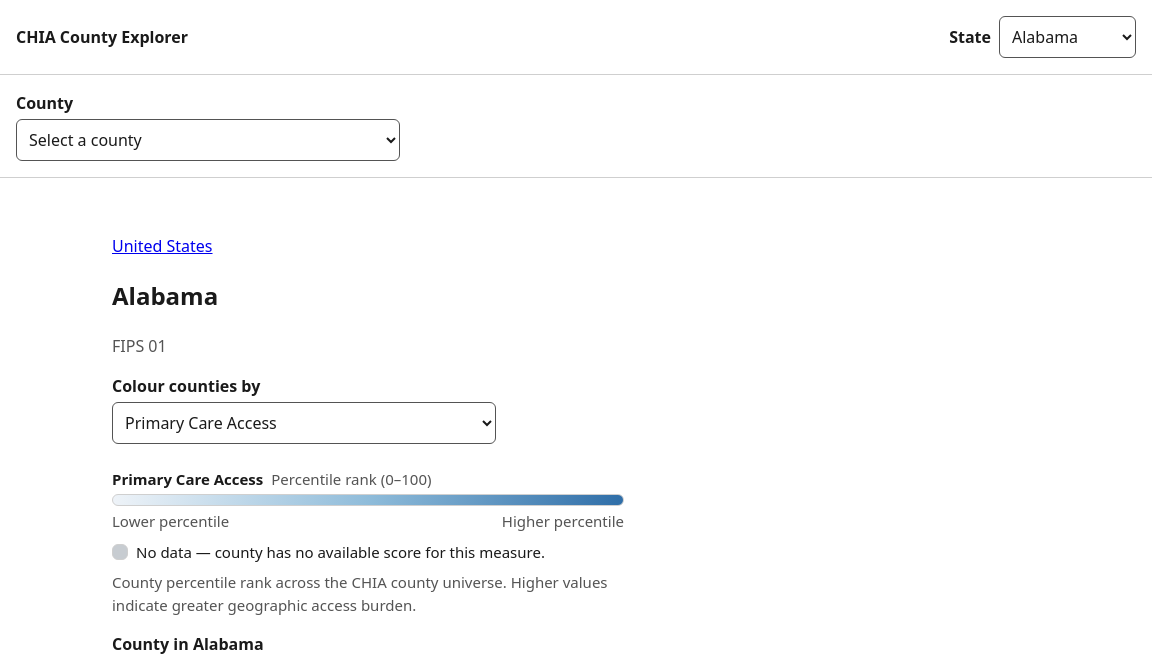
StatePage (CE-E10 analytical heat map) › the legend makes the percentile-vs-coverage distinction explicit in text
Expected: the text "Percentile rank (0–100)" is shown, 271,468 -> 432,490
Select "MUA/P Access" in the dropdown labelled "Colour counties by" at [304, 423], box 112,402 -> 496,444
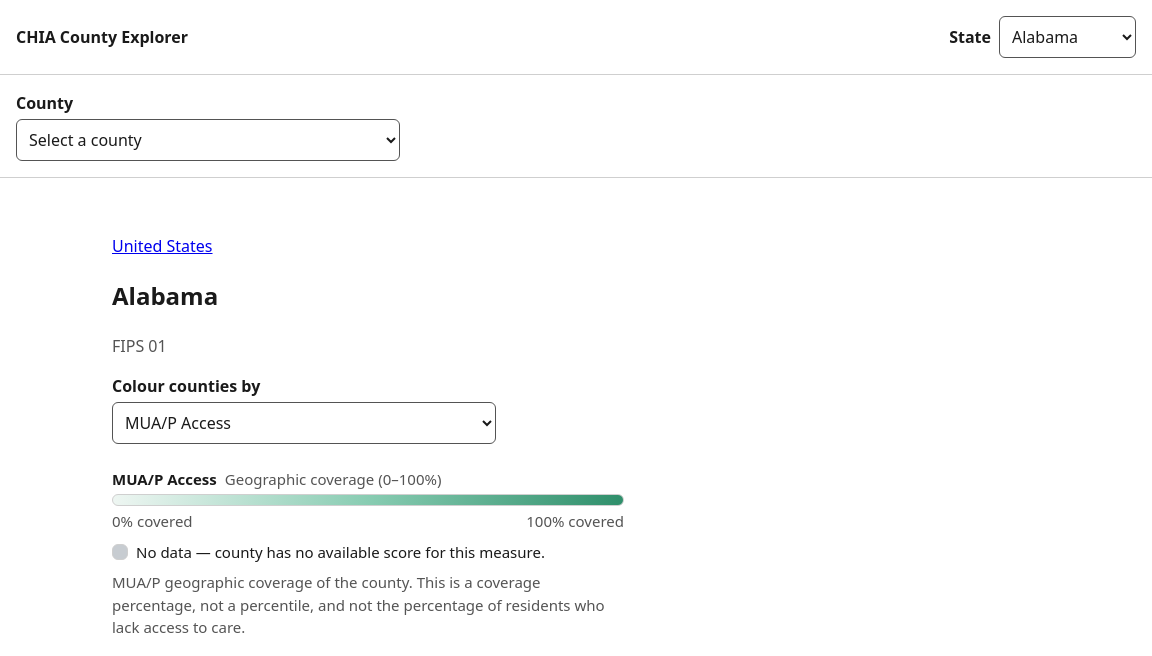
Result: the text "Geographic coverage (0–100%)" is shown at 225,468 -> 442,490
Result: the text "not a percentile" is shown at 112,572 -> 604,637
Result: the text "Percentile rank" is gone
